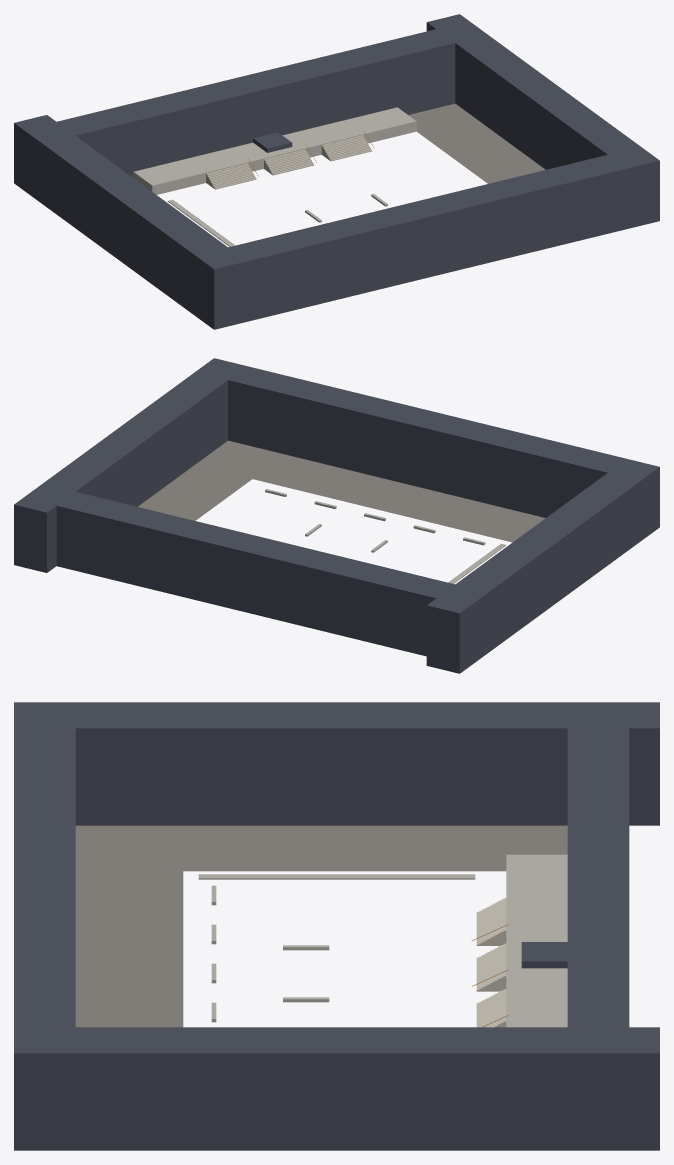
The model's file is spot_plattan.glb.
The picture shows the model from 3 angles, top to bottom: view 1: azimuth 30°, elevation 25°; view 2: azimuth 150°, elevation 25°; view 3: azimuth 270°, elevation 25°; orthographic projection. The views are drawn at different scales.
Parts seen in each view (by area): view 1: spot_plattan; view 2: spot_plattan; view 3: spot_plattan.
Boxes of the visible parts, x1,y1,x2,y2 form: spot_plattan: [14, 14, 659, 329]; spot_plattan: [14, 358, 659, 673]; spot_plattan: [14, 702, 659, 1150].
Size of the model in its own units: 108 by 14 by 84.
Materials: 1 (1 with a texture image).
